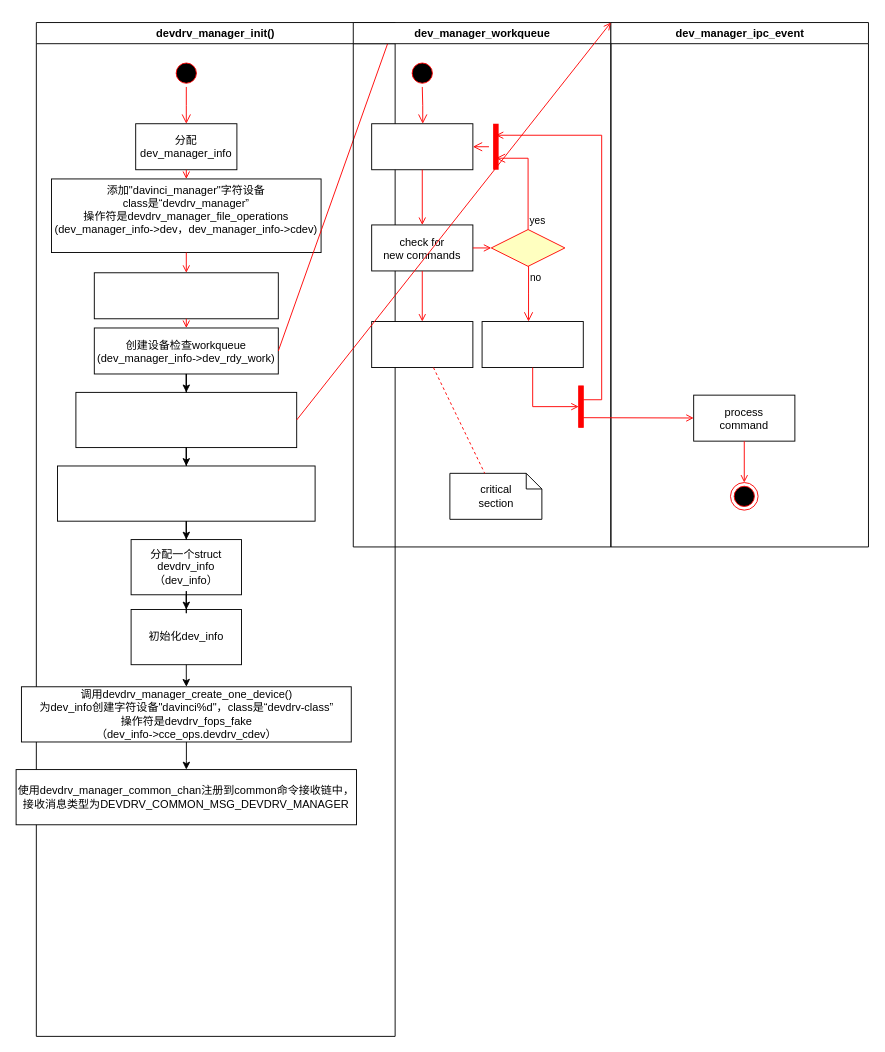
Image size: 885x1052. Some labels were removed from this diagram. The centre of each missing label's shape, as x and y in pixels:
command queue: the point at 422,344
devdrv_register_client()注册客户端devdrv_manager_host_instance，执行初始化: the point at 186,493
dispatch command worker thread: the point at 532,344
idle: the point at 422,146
queue empty: the point at 527,247
创建ipc workqueue （dev_manager_info->ipc_event_recycle）: the point at 186,419
初始化dev_manager_info信息 （prob_num、host_type、drv_ops）: the point at 185,295
